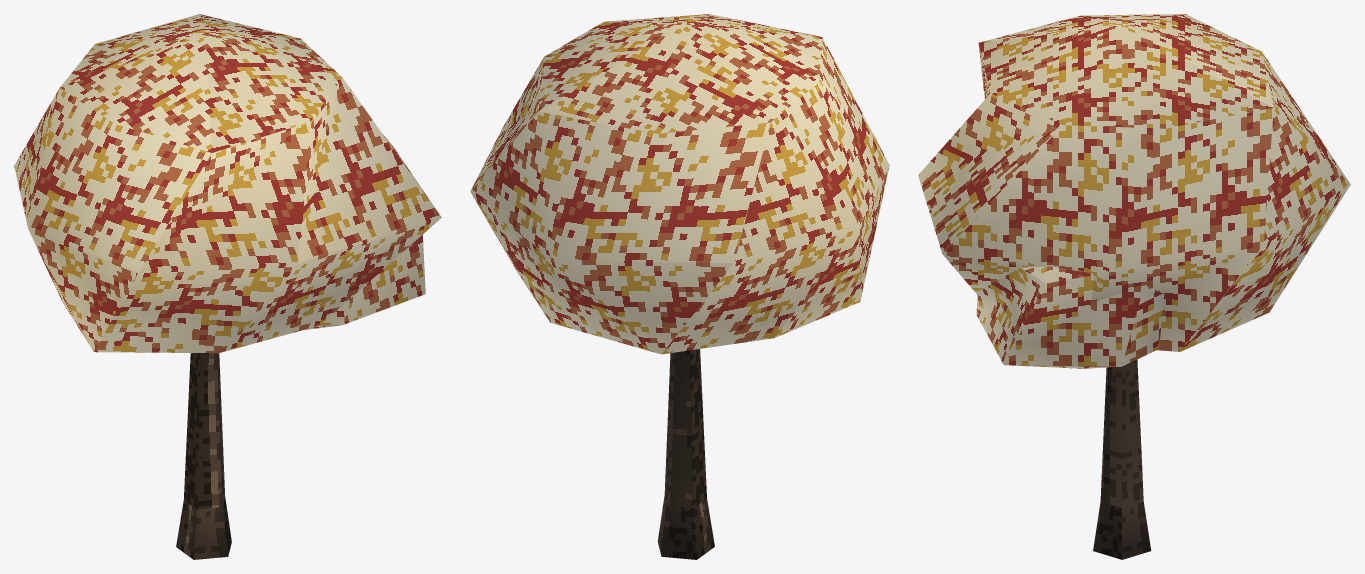
Rendered from mnat.orchard__blossom.glb.
3 views of the same model, side by side, from view 1: azimuth 30°, elevation 25°; view 2: azimuth 150°, elevation 25°; view 3: azimuth 270°, elevation 25° (orthographic). The views are drawn at different scales.
Parts seen in each view (by area): view 1: kit_crown, kit_trunk; view 2: kit_crown, kit_trunk; view 3: kit_crown, kit_trunk.
Boxes of the visible parts, x1,y1,x2,y2 form: kit_crown: (14,14,441,353); kit_trunk: (176,353,231,559); kit_crown: (470,14,889,354); kit_trunk: (657,349,714,559); kit_crown: (918,14,1350,368); kit_trunk: (1093,359,1151,559).
Bounding box in the file's own units: 3.14 × 4.3 × 3.24.
Materials: 2 (2 with a texture image).
